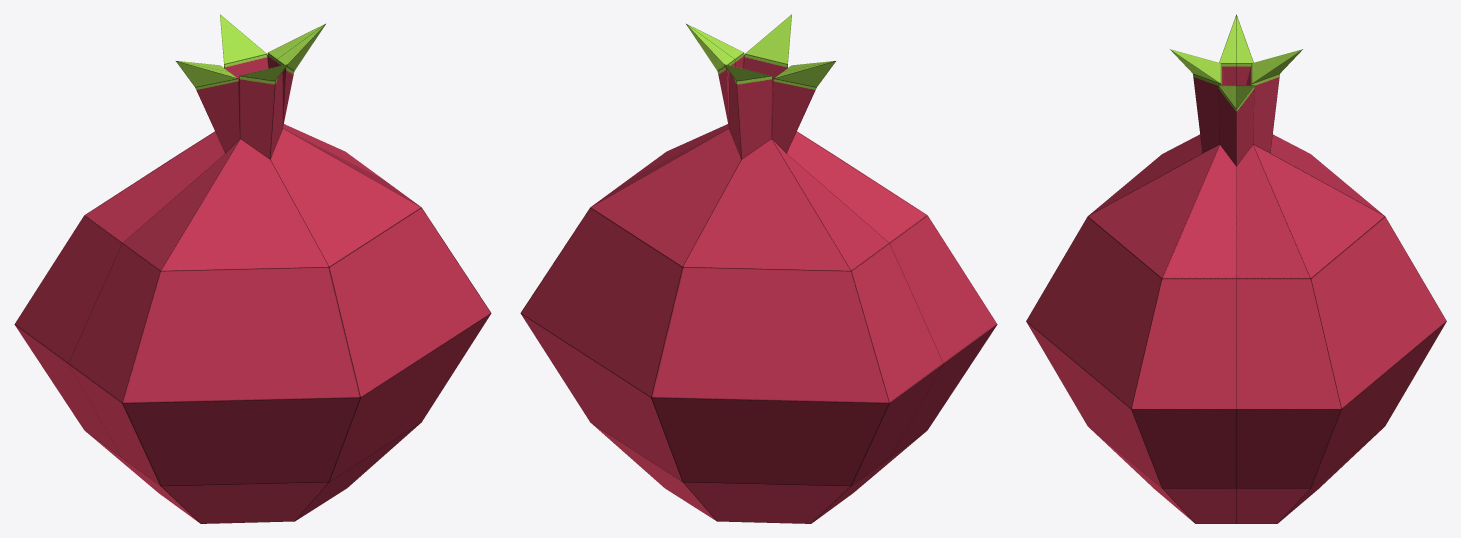
The model's file is Projectile.fbx.
3 renders of one model, left to right at view 1: azimuth 30°, elevation 25°; view 2: azimuth 150°, elevation 25°; view 3: azimuth 270°, elevation 25°, orthographic. The views are drawn at different scales.
Parts seen in each view (by area): view 1: Pomegranate; view 2: Pomegranate; view 3: Pomegranate.
Boxes of the visible parts, <box> form: Pomegranate: <box>14,14,491,523</box>; Pomegranate: <box>520,14,997,523</box>; Pomegranate: <box>1026,14,1446,523</box>.
Bounding box in the file's own units: 1.01 × 1.19 × 1.03.
Materials: 1 (1 with a texture image).
